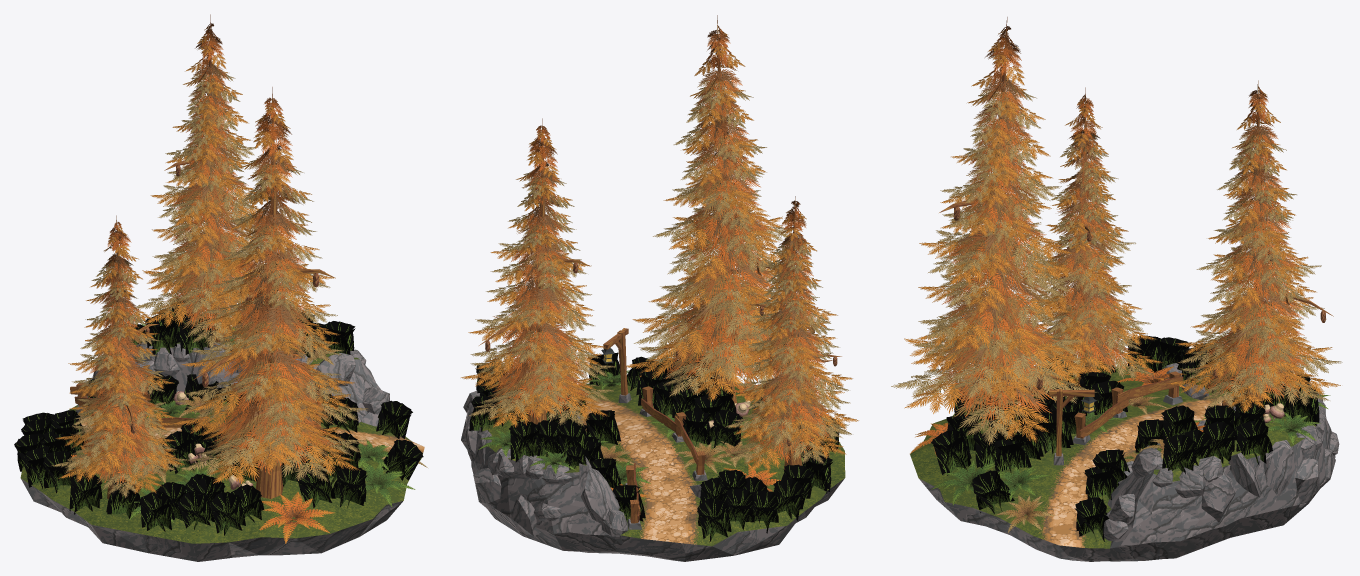
The model's file is Pine_Scene.fbx.
3 views of the same model, side by side, from view 1: azimuth 30°, elevation 25°; view 2: azimuth 150°, elevation 25°; view 3: azimuth 270°, elevation 25° (orthographic). The views are drawn at different scales.
Visible parts, largest first — view 1: Tree.002, Grass.052, base, Tree.001, Tree, FernGreen, FernOrange, FernGrey, Mushroom.002; view 2: Tree.002, base, Tree.001, Grass.052, Tree, FernGreen, FenceLarge, FernGrey, Lampost, FernOrange, FenceSmall; view 3: Tree.002, base, Tree.001, Grass.052, Tree, FernGreen, FenceLarge, FernGrey, FernOrange, Lampost.
Boxes of the visible parts, bbox=[...] form: Tree.002: bbox=[171, 87, 369, 498]; Grass.052: bbox=[14, 298, 423, 535]; base: bbox=[20, 327, 424, 561]; Tree.001: bbox=[135, 14, 281, 349]; Tree: bbox=[51, 215, 188, 499]; FernGreen: bbox=[129, 324, 415, 522]; FernOrange: bbox=[71, 341, 334, 543]; FernGrey: bbox=[138, 343, 427, 482]; Mushroom.002: bbox=[173, 313, 252, 489]; Tree.002: bbox=[626, 15, 825, 403]; base: bbox=[461, 381, 845, 561]; Tree.001: bbox=[461, 118, 615, 427]; Grass.052: bbox=[469, 352, 840, 542]; Tree: bbox=[725, 196, 858, 471]; FernGreen: bbox=[478, 367, 830, 484]; FenceLarge: bbox=[639, 386, 707, 480]; FernGrey: bbox=[574, 381, 761, 473]; Lampost: bbox=[603, 328, 631, 403]; FernOrange: bbox=[549, 378, 780, 497]; FenceSmall: bbox=[625, 463, 641, 529]; Tree.002: bbox=[891, 17, 1098, 445]; base: bbox=[910, 363, 1339, 561]; Tree.001: bbox=[1167, 80, 1342, 416]; Grass.052: bbox=[931, 335, 1319, 541]; Tree: bbox=[1021, 87, 1163, 381]; FernGreen: bbox=[931, 377, 1330, 505]; FenceLarge: bbox=[1073, 371, 1183, 445]; FernGrey: bbox=[996, 392, 1168, 532]; FernOrange: bbox=[910, 366, 1205, 456]; Lampost: bbox=[1049, 389, 1094, 465].
Size of the model in its own units: 2317 by 2935 by 2447.
Materials: 16 (16 with a texture image).
